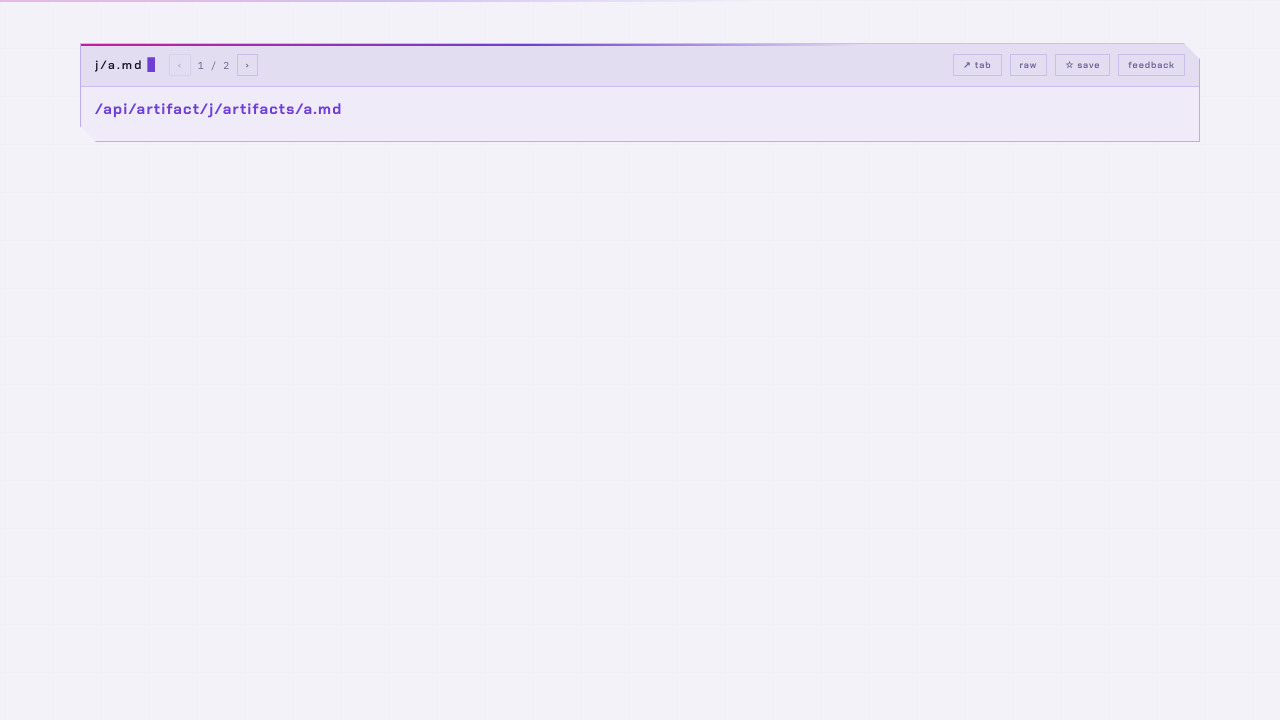
the feedback draft › survives a step away and back
This screenshot has width=1280, height=720.
Step 1. Click the button "feedback" → x=1152, y=65, box [1118,54,1185,76]
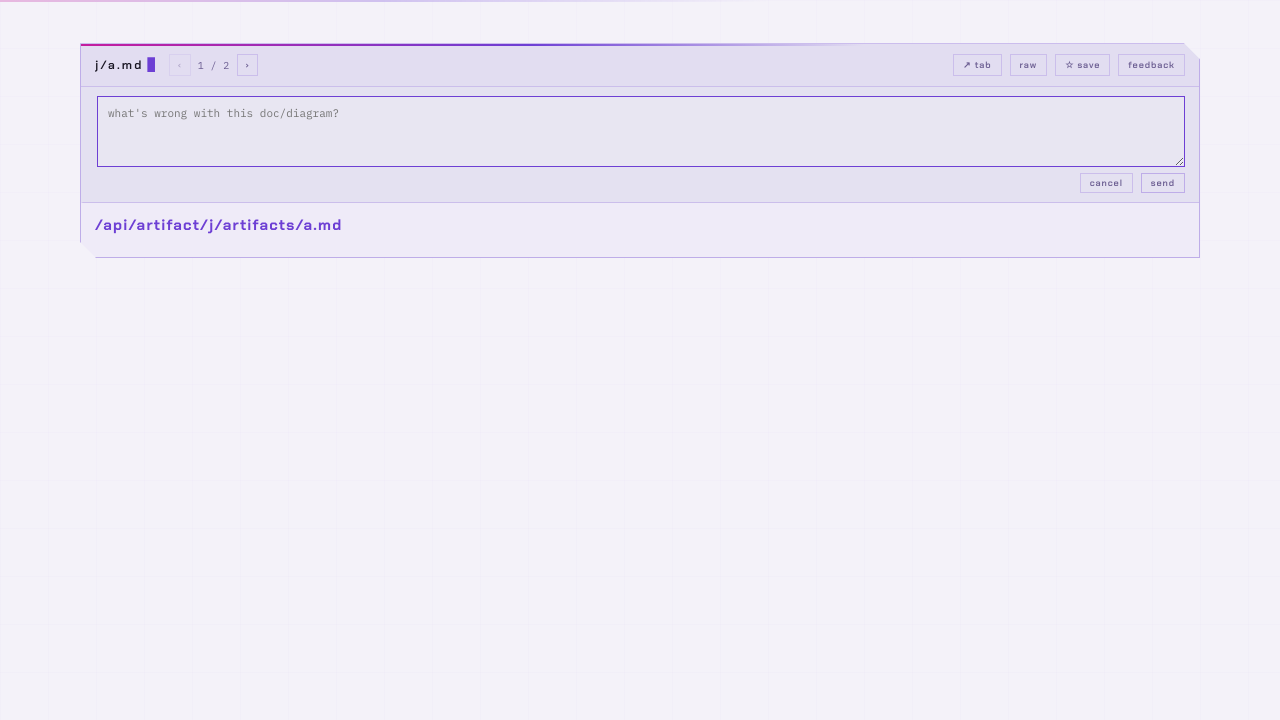
Step 2. Type "this diagram is upside down" into the text box with id "feedback-text" → x=641, y=132, box [97,96,1185,167]
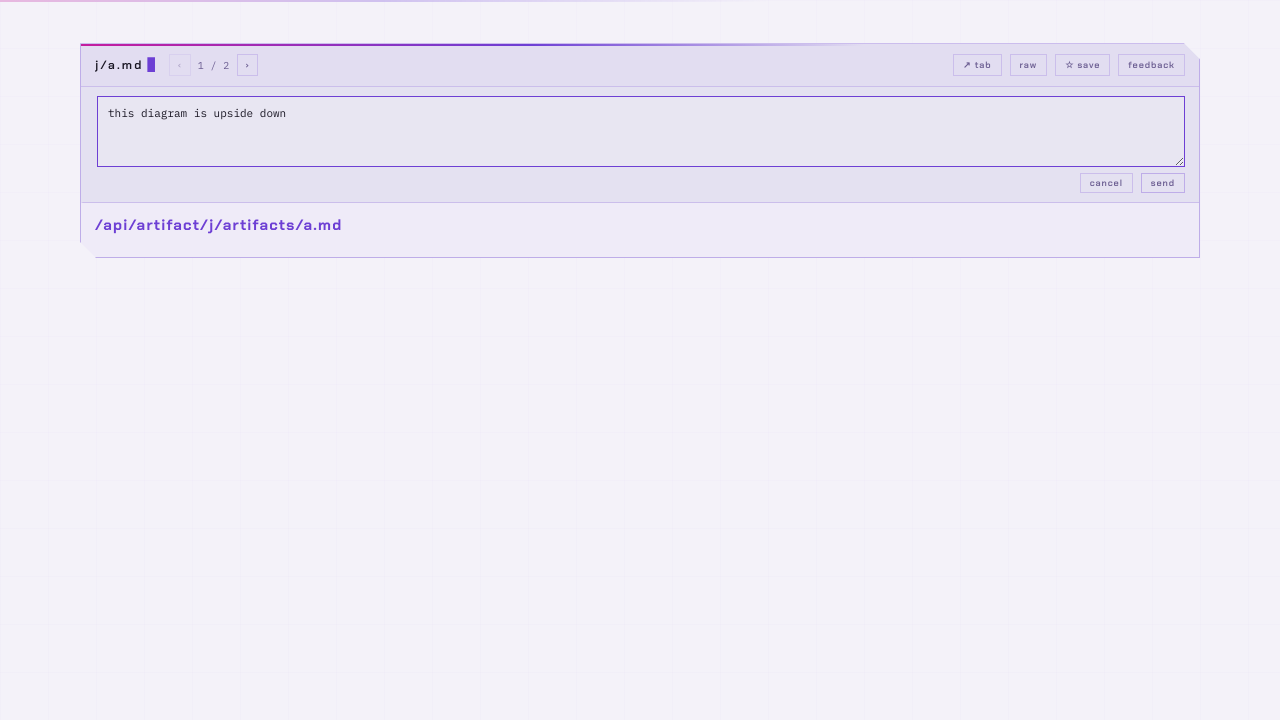
Step 3. Click the button "›" → x=247, y=65, box [237,54,258,76]
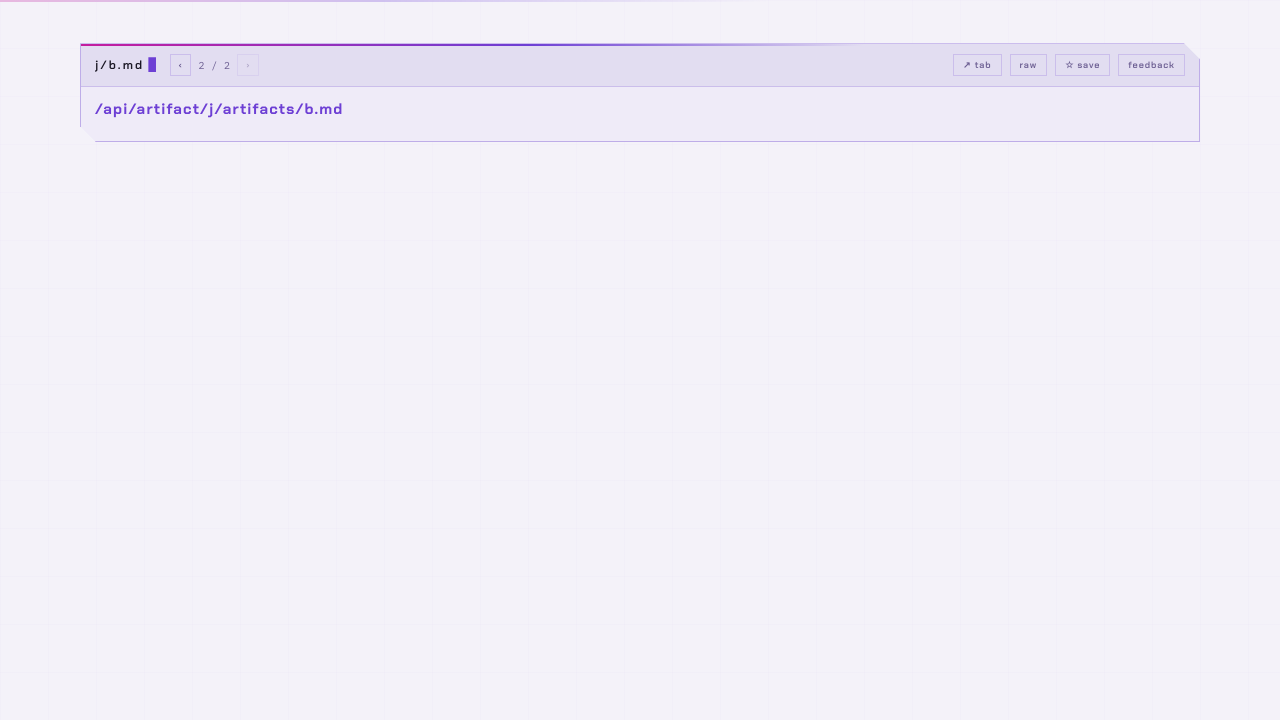
Expected: the text "j/b.md" is shown, [95,57,160,73]
Step 4. Click the button "‹" → x=181, y=65, box [170,54,192,76]
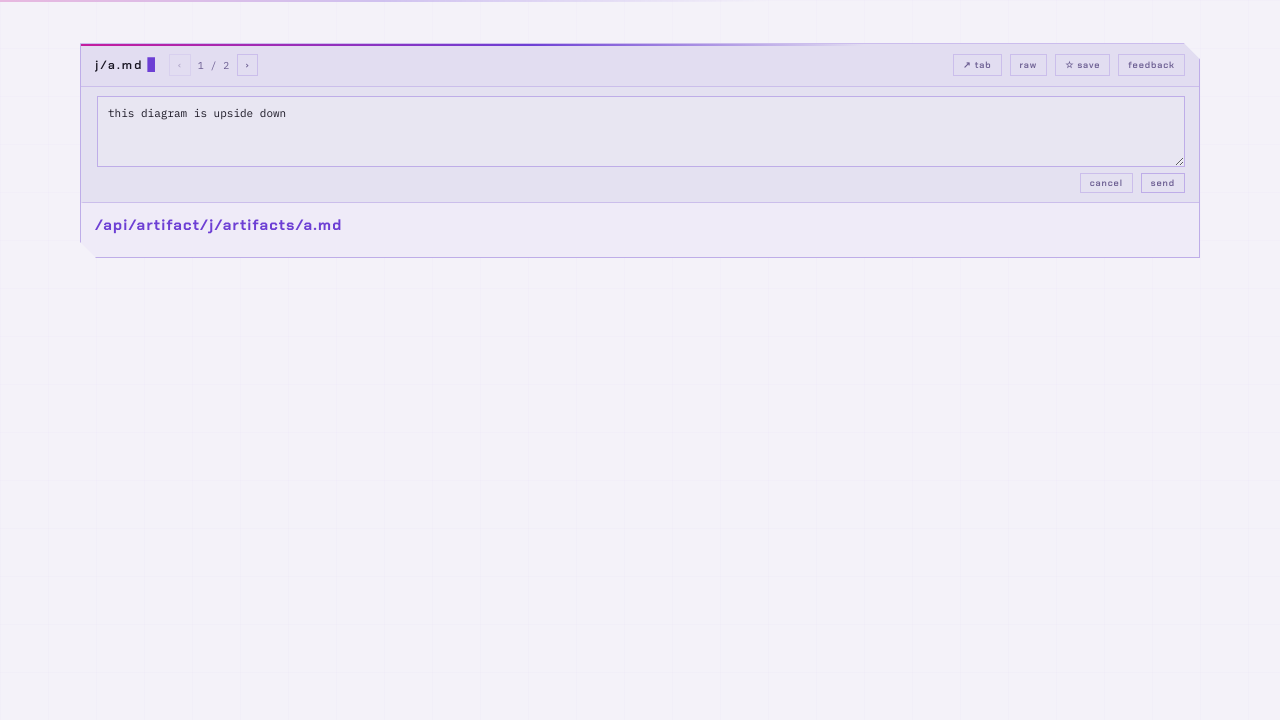
Expected: the text "j/a.md" is shown, [95,57,159,73]
